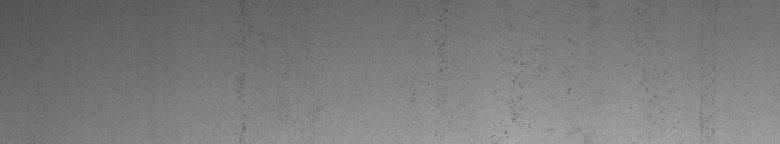ib: (436, 20, 571, 124)
